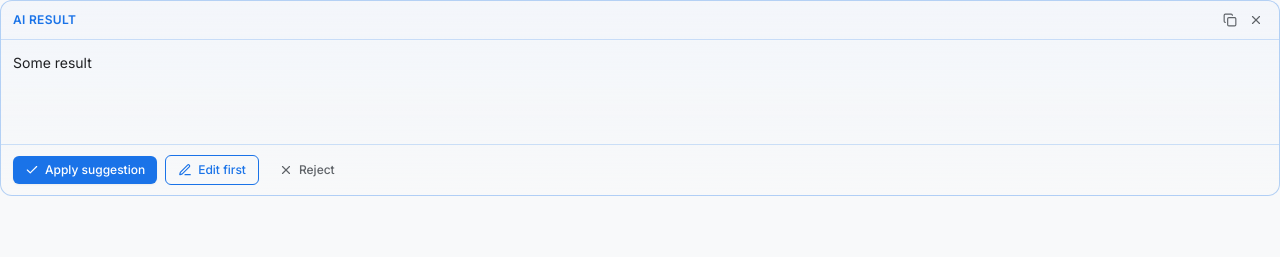
Test case: AIResultCard › edit mode › returns to preview when Cancel edit is clicked
This screenshot has width=1280, height=257.
Click the button "Edit first" at (212, 170), box [165,155,259,185]
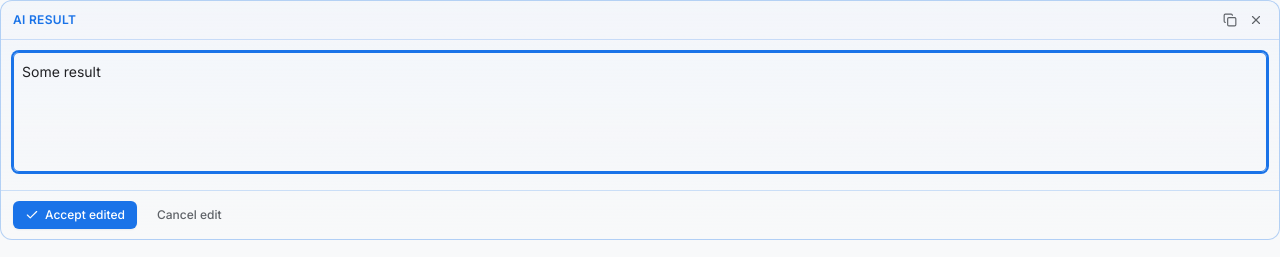
Click the button "Cancel edit" at (189, 215), box [145,201,234,229]
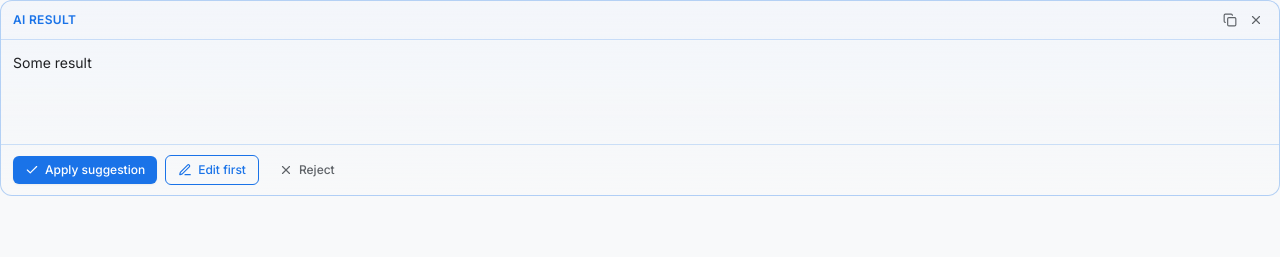
Now the text "Some result" is shown, box [13,54,92,71]
